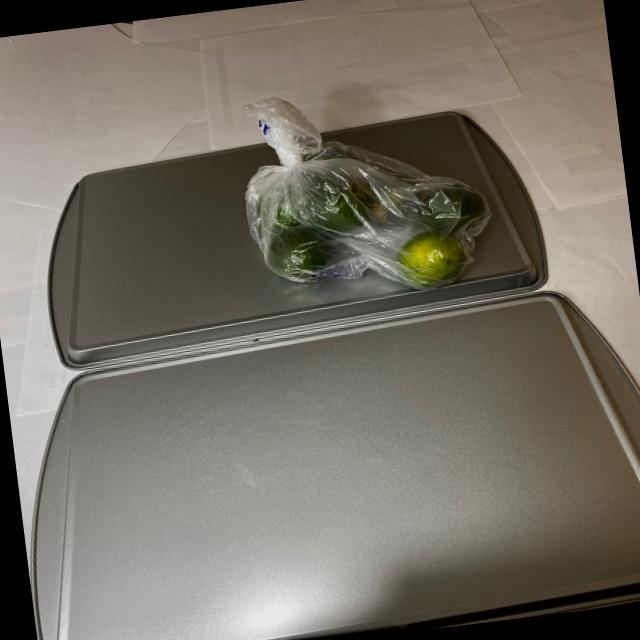lemon: (235, 130, 496, 304)
